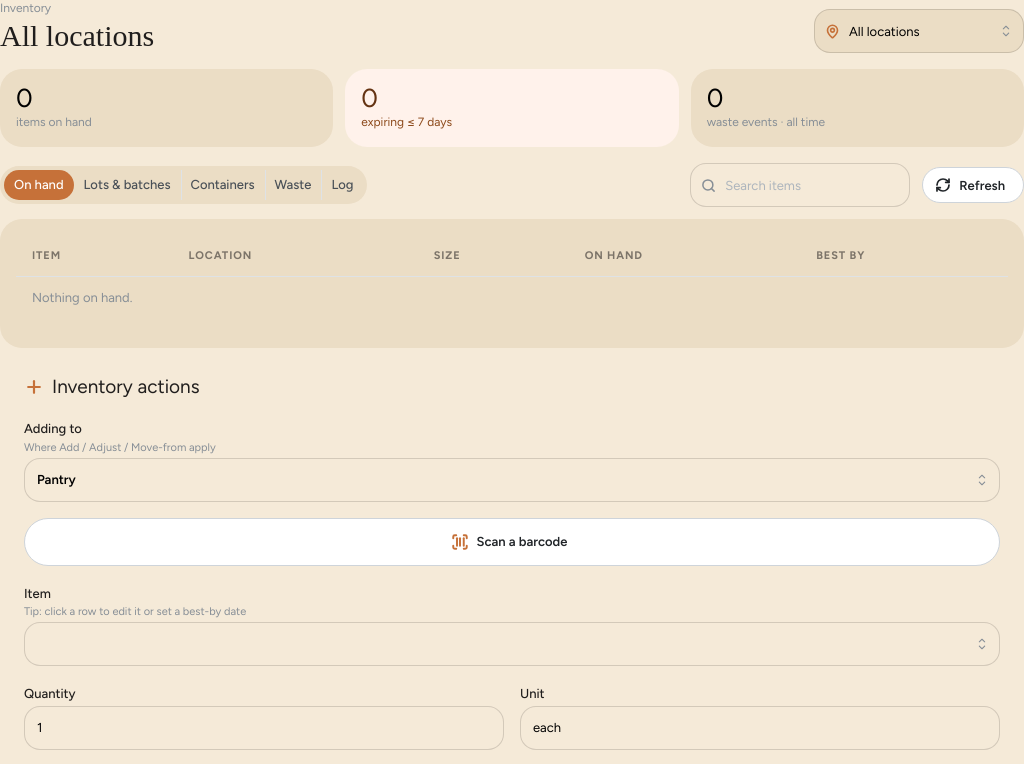
InventoryPage - Log table › opens the transaction detail modal on row click and reverses via the endpoint
This screenshot has width=1024, height=764.
Click the text "Log" at point(342, 184), box x1=331 y1=177 x2=353 y2=192
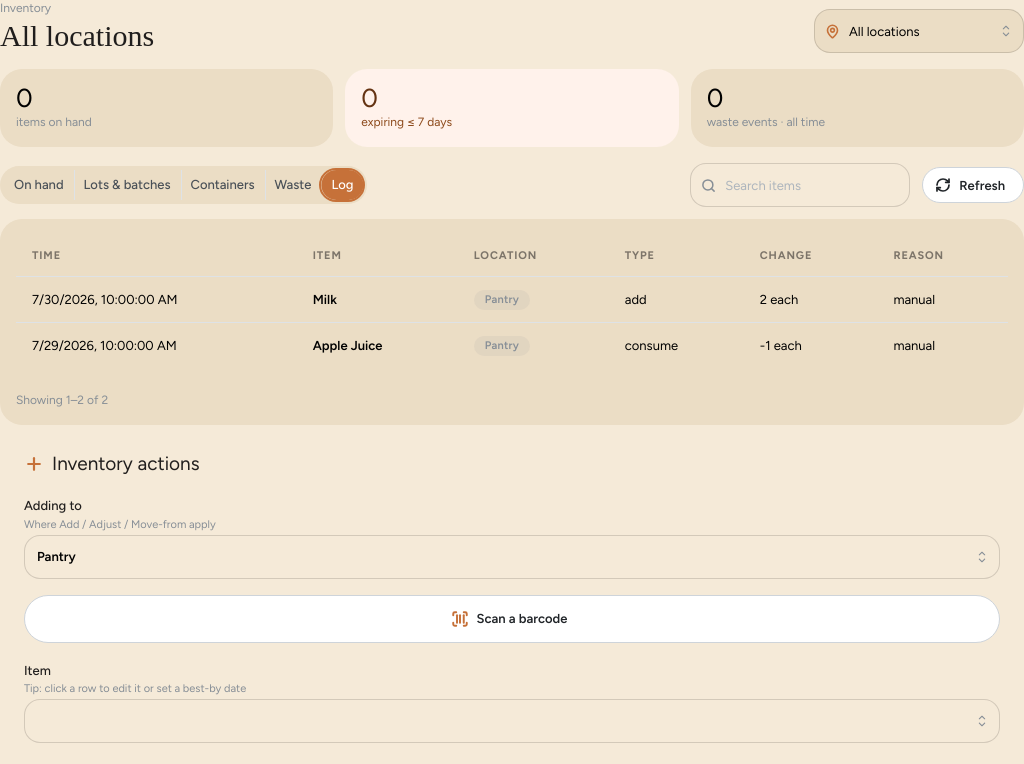
Check: the text "Milk" is shown
Click the text "Milk" at point(325, 299), box x1=297 y1=277 x2=458 y2=323
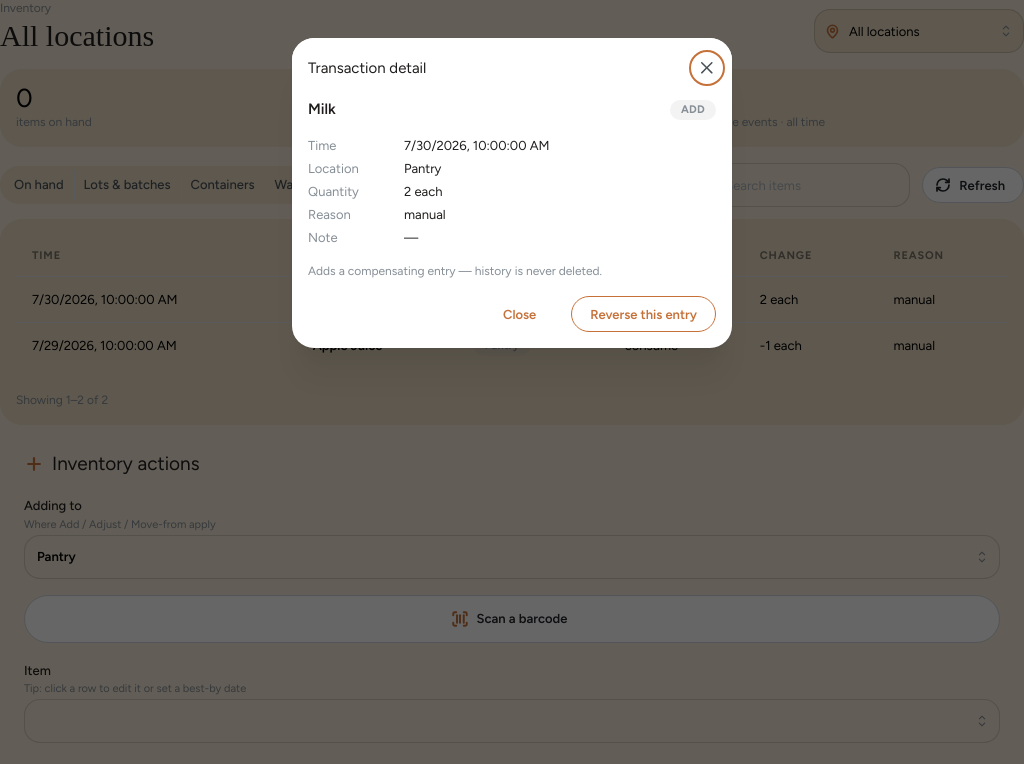
Check: the heading "Transaction detail" is shown, box x1=308 y1=61 x2=426 y2=76
Check: the text "Adds a compensating entry — history is never deleted." is shown, box x1=308 y1=265 x2=602 y2=279
Click the button "Reverse this entry" at point(644, 315), box x1=571 y1=297 x2=716 y2=333
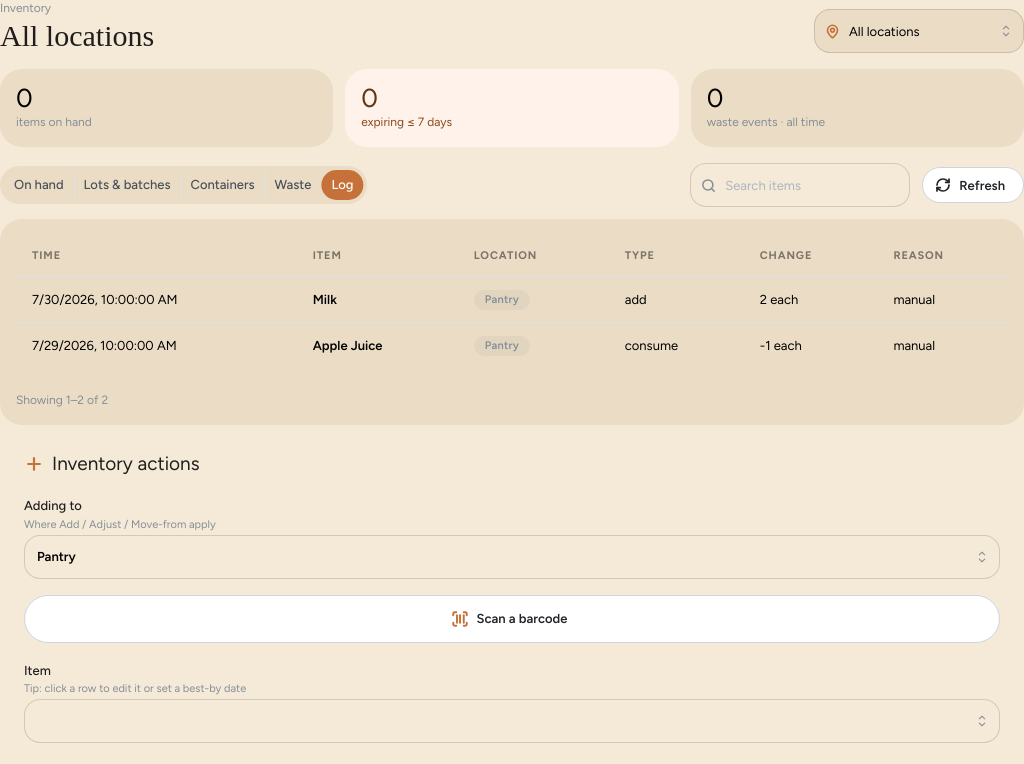
Check: the heading "Transaction detail" is gone
